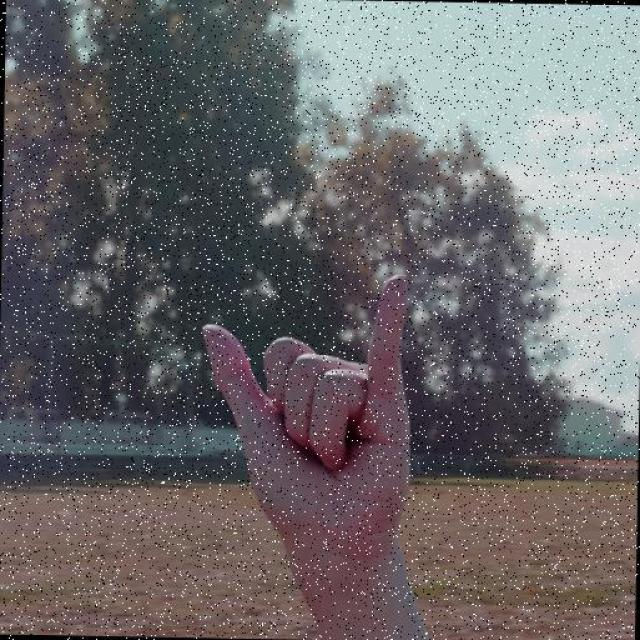Y: (196, 269, 417, 563)
